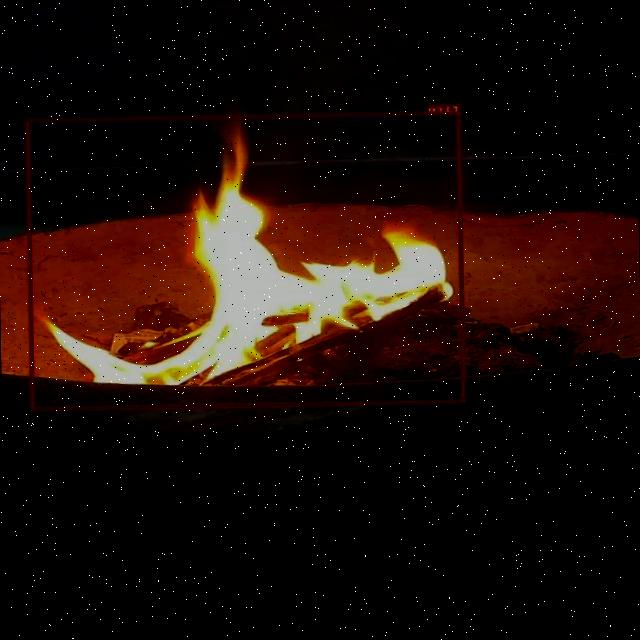fire: (26, 111, 466, 410)
